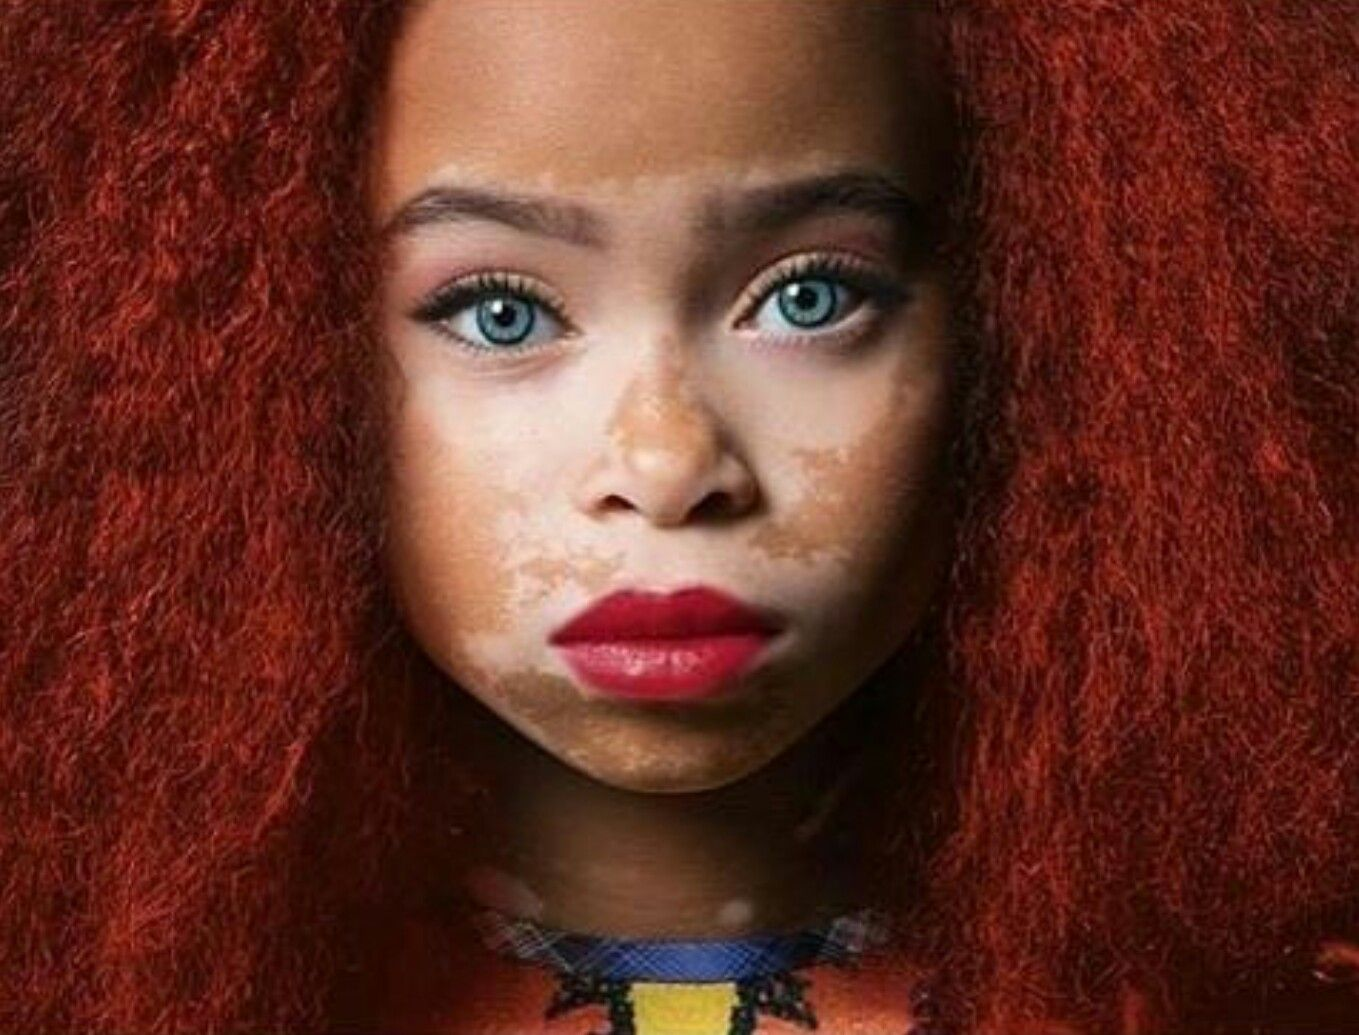Vitiligo: (366, 146, 940, 745)
